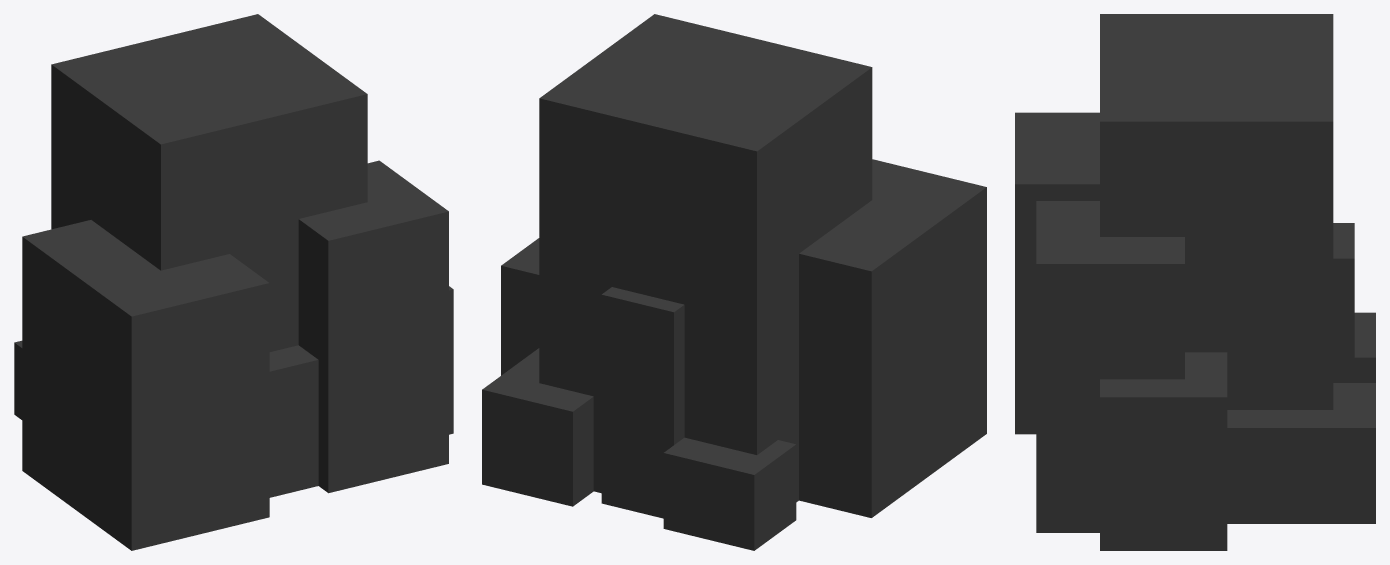
File: Rock 02.obj
3 renders of one model, left to right at view 1: azimuth 30°, elevation 25°; view 2: azimuth 150°, elevation 25°; view 3: azimuth 270°, elevation 25°, orthographic. The views are drawn at different scales.
Size of the model in its own units: 2.1 by 2 by 1.7.
1 material, 1 textured.
